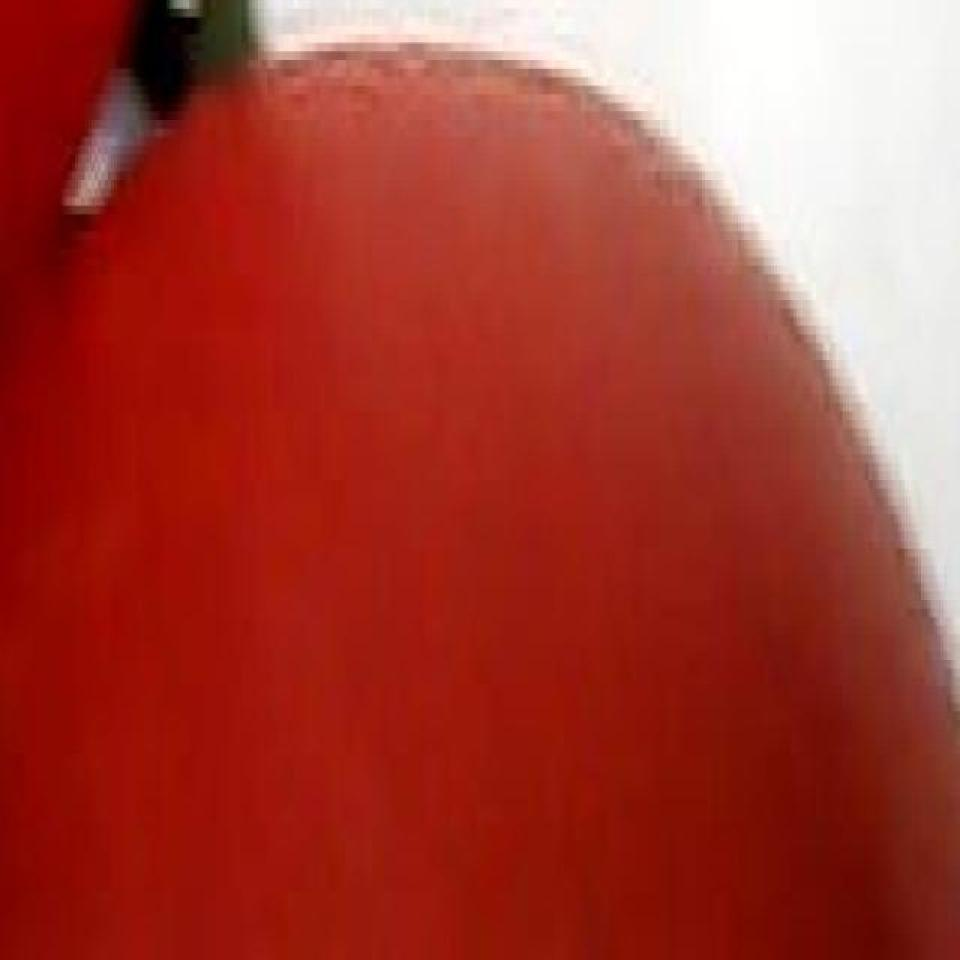Healthy: (6, 21, 960, 960)
